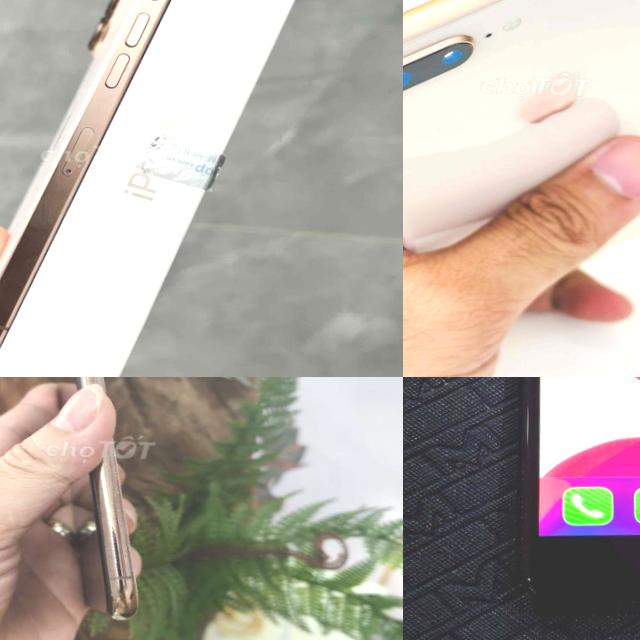scratch: (95, 458, 144, 610), (516, 402, 538, 445), (518, 566, 534, 586)
